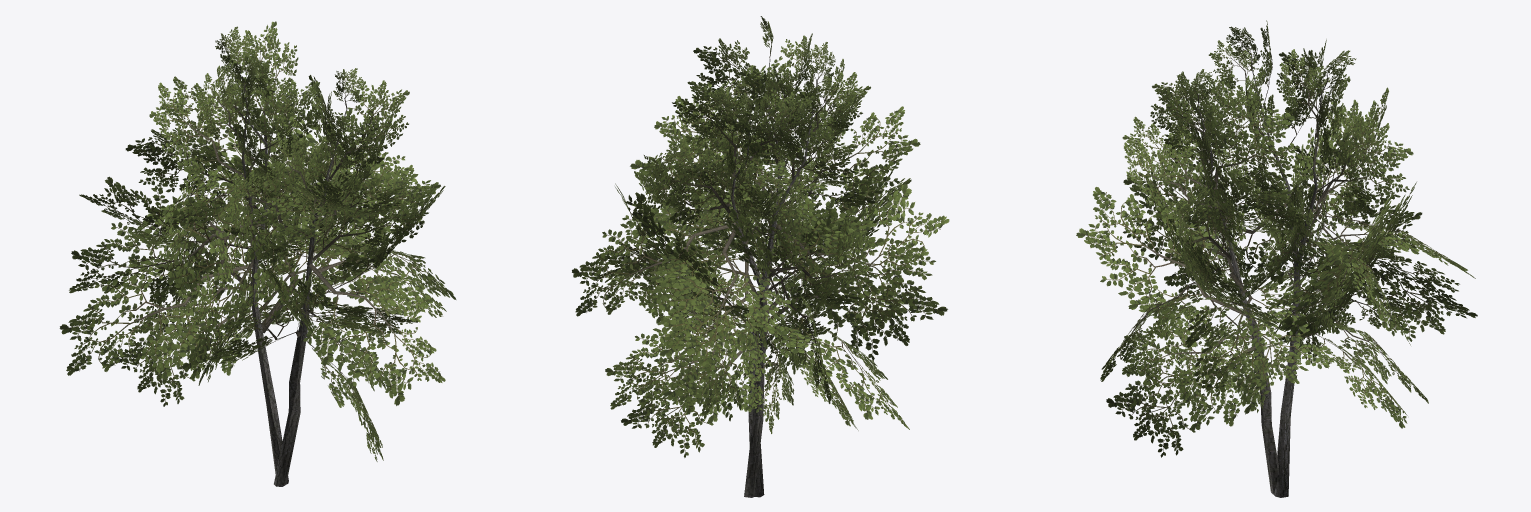
Rendered from tree8.fbx.
3 renders of one model, left to right at view 1: azimuth 30°, elevation 25°; view 2: azimuth 150°, elevation 25°; view 3: azimuth 270°, elevation 25°, orthographic.
Parts seen in each view (by area): view 1: Tree-01-2; view 2: Tree-01-2; view 3: Tree-01-2.
Part boxes in pixels (box(x1,y1,x2,y2)): Tree-01-2: box(59, 21, 456, 486); Tree-01-2: box(572, 16, 949, 497); Tree-01-2: box(1076, 20, 1477, 497).
Bounding box in the file's own units: 655 × 750 × 732.
